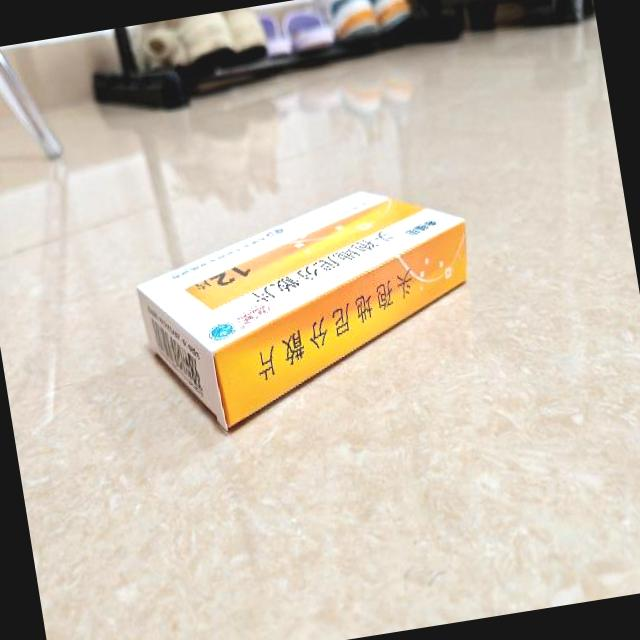box: (128, 175, 492, 444)
